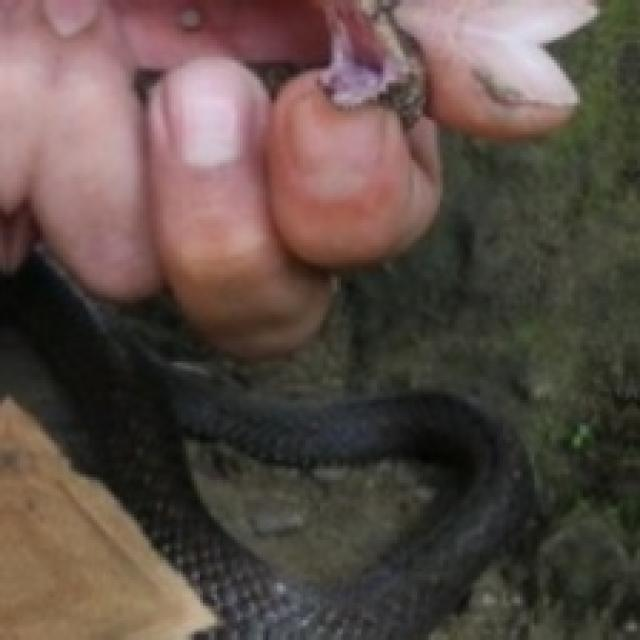reinhardts lined snake: (0, 251, 529, 637), (324, 0, 425, 126)
